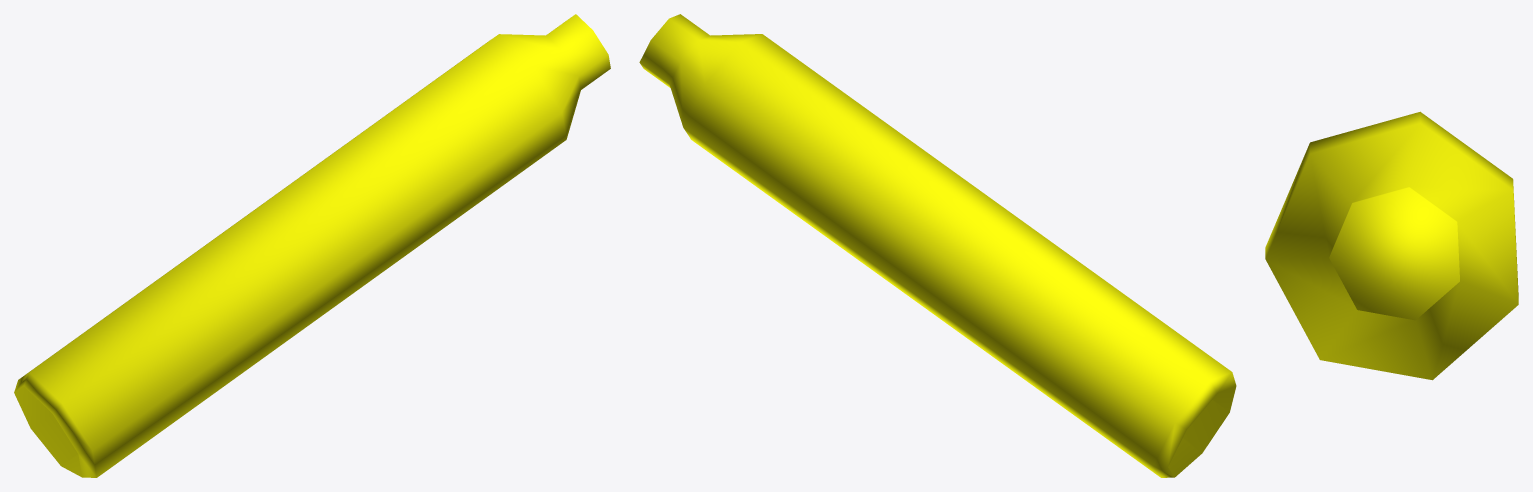
The model's file is character_gun_r_0Model.glb.
3 renders of one model, left to right at view 1: azimuth 30°, elevation 25°; view 2: azimuth 150°, elevation 25°; view 3: azimuth 270°, elevation 25°, orthographic. The views are drawn at different scales.
Visible parts, largest first — view 1: character_gun_r_0; view 2: character_gun_r_0; view 3: character_gun_r_0.
Boxes of the visible parts, bbox=[...] form: character_gun_r_0: bbox=[14, 14, 610, 477]; character_gun_r_0: bbox=[639, 14, 1236, 477]; character_gun_r_0: bbox=[1265, 111, 1518, 380].
Bounding box in the file's own units: 0.5449 × 0.3026 × 0.1042.
1 material, 1 textured.
